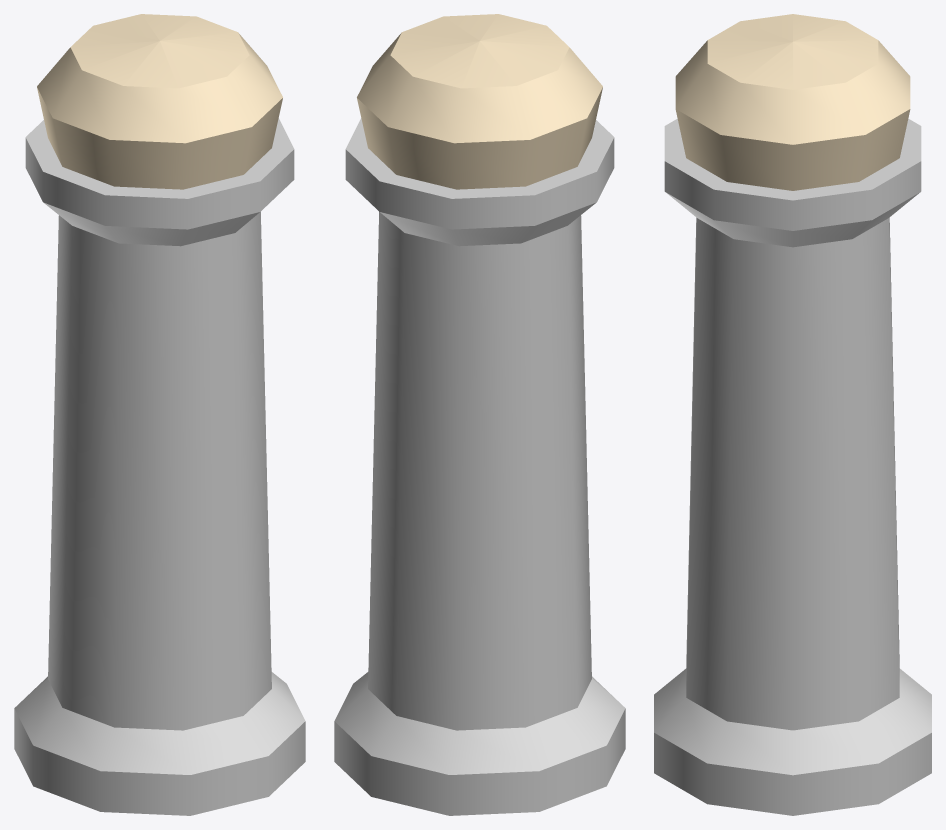
The model's file is PathBollard.glb.
The picture shows the model from 3 angles, left to right: view 1: azimuth 30°, elevation 25°; view 2: azimuth 150°, elevation 25°; view 3: azimuth 270°, elevation 25°; orthographic projection.
Parts seen in each view (by area): view 1: Body, Glow; view 2: Body, Glow; view 3: Body, Glow.
Part boxes in pixels (x1,y1,x2,y2): Body: (14, 118, 305, 815); Glow: (37, 14, 282, 189); Body: (334, 118, 625, 815); Glow: (357, 14, 602, 189); Body: (654, 118, 931, 815); Glow: (675, 14, 910, 190).
Size of the model in its own units: 1.3 by 3.5 by 1.24.
